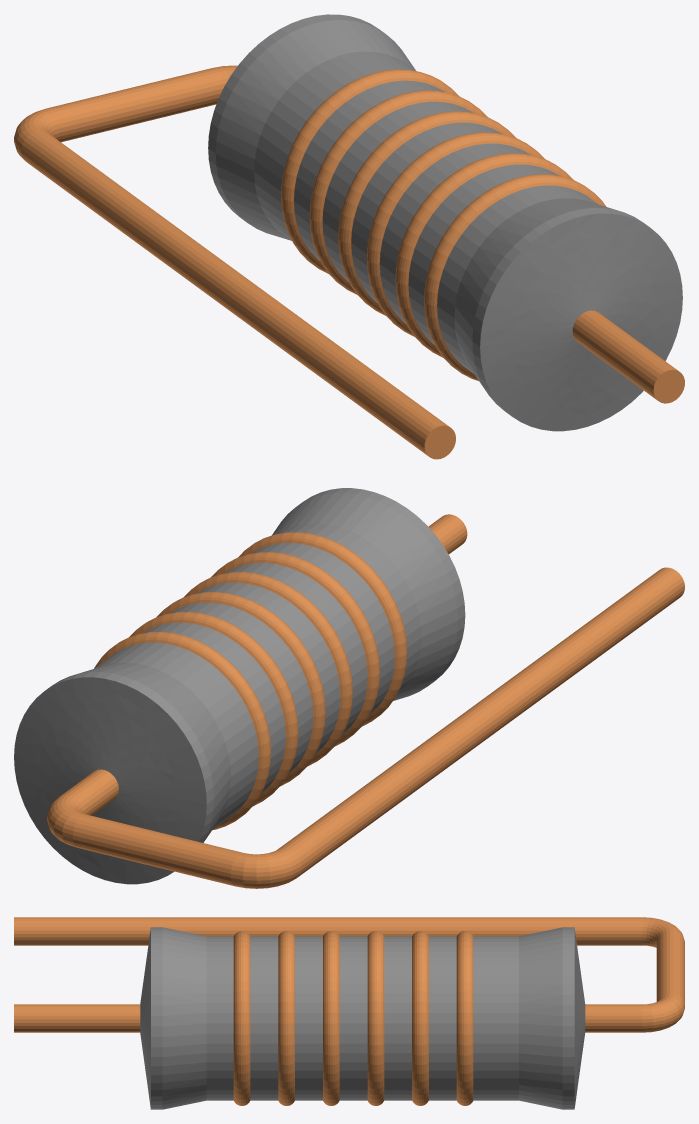
The model's file is L_Axial_L11.0mm_D4.5mm_P5.08mm_Vertical_Fastron_MECC.glb.
The picture shows the model from 3 angles, top to bottom: view 1: azimuth 30°, elevation 25°; view 2: azimuth 150°, elevation 25°; view 3: azimuth 270°, elevation 25°; orthographic projection. The views are drawn at different scales.
Parts seen in each view (by area): view 1: Shape_IndexedFaceSet.002, Shape_IndexedFaceSet.025, Shape_IndexedFaceSet.018, Shape_IndexedFaceSet.017, Shape_IndexedFaceSet.023, Shape_IndexedFaceSet.004, Shape_IndexedFaceSet.005, Shape_IndexedFaceSet.013, Shape_IndexedFaceSet.009, Shape_IndexedFaceSet.011, Shape_IndexedFaceSet.007, Shape_IndexedFaceSet.015 (+12 smaller); view 2: Shape_IndexedFaceSet.020, Shape_IndexedFaceSet.025, Shape_IndexedFaceSet.004, Shape_IndexedFaceSet.017, Shape_IndexedFaceSet.023, Shape_IndexedFaceSet.018, Shape_IndexedFaceSet.016, Shape_IndexedFaceSet.009, Shape_IndexedFaceSet.007, Shape_IndexedFaceSet.015, Shape_IndexedFaceSet.011, Shape_IndexedFaceSet.013 (+12 smaller); view 3: Shape_IndexedFaceSet.025, Shape_IndexedFaceSet.004, Shape_IndexedFaceSet.018, Shape_IndexedFaceSet.017, Shape_IndexedFaceSet.007, Shape_IndexedFaceSet.011, Shape_IndexedFaceSet.005, Shape_IndexedFaceSet.009, Shape_IndexedFaceSet.013, Shape_IndexedFaceSet.015, Shape_IndexedFaceSet.001, Shape_IndexedFaceSet.006 (+13 smaller).
Boxes of the visible parts, left/top/right/bottom form: Shape_IndexedFaceSet.002: left=480, top=213, right=682, bottom=431; Shape_IndexedFaceSet.025: left=21, top=130, right=449, bottom=456; Shape_IndexedFaceSet.018: left=215, top=20, right=415, bottom=240; Shape_IndexedFaceSet.017: left=254, top=51, right=415, bottom=240; Shape_IndexedFaceSet.023: left=47, top=68, right=224, bottom=142; Shape_IndexedFaceSet.004: left=454, top=198, right=617, bottom=391; Shape_IndexedFaceSet.005: left=437, top=185, right=597, bottom=373; Shape_IndexedFaceSet.013: left=322, top=101, right=472, bottom=282; Shape_IndexedFaceSet.009: left=379, top=143, right=530, bottom=324; Shape_IndexedFaceSet.011: left=351, top=122, right=501, bottom=303; Shape_IndexedFaceSet.007: left=408, top=164, right=558, bottom=344; Shape_IndexedFaceSet.015: left=294, top=80, right=444, bottom=261; Shape_IndexedFaceSet.020: left=14, top=677, right=206, bottom=884; Shape_IndexedFaceSet.025: left=278, top=567, right=684, bottom=876; Shape_IndexedFaceSet.004: left=272, top=493, right=457, bottom=700; Shape_IndexedFaceSet.017: left=95, top=642, right=258, bottom=829; Shape_IndexedFaceSet.023: left=73, top=814, right=241, bottom=886; Shape_IndexedFaceSet.018: left=74, top=662, right=231, bottom=842; Shape_IndexedFaceSet.016: left=94, top=631, right=271, bottom=830; Shape_IndexedFaceSet.009: left=224, top=562, right=367, bottom=734; Shape_IndexedFaceSet.007: left=252, top=543, right=394, bottom=714; Shape_IndexedFaceSet.015: left=143, top=622, right=285, bottom=793; Shape_IndexedFaceSet.011: left=197, top=582, right=340, bottom=754; Shape_IndexedFaceSet.013: left=170, top=602, right=313, bottom=774; Shape_IndexedFaceSet.025: left=14, top=917, right=642, bottom=945; Shape_IndexedFaceSet.004: left=162, top=927, right=206, bottom=1109; Shape_IndexedFaceSet.018: left=519, top=927, right=562, bottom=1109; Shape_IndexedFaceSet.017: left=473, top=936, right=518, bottom=1100; Shape_IndexedFaceSet.007: left=250, top=936, right=278, bottom=1100; Shape_IndexedFaceSet.011: left=339, top=936, right=367, bottom=1100; Shape_IndexedFaceSet.005: left=206, top=936, right=233, bottom=1100; Shape_IndexedFaceSet.009: left=295, top=936, right=322, bottom=1100; Shape_IndexedFaceSet.013: left=384, top=936, right=411, bottom=1100; Shape_IndexedFaceSet.015: left=429, top=936, right=456, bottom=1100; Shape_IndexedFaceSet.001: left=14, top=1004, right=140, bottom=1032; Shape_IndexedFaceSet.006: left=233, top=931, right=250, bottom=1105.
Bounding box in the file's own units: 3.02 × 1.77 × 6.51.
